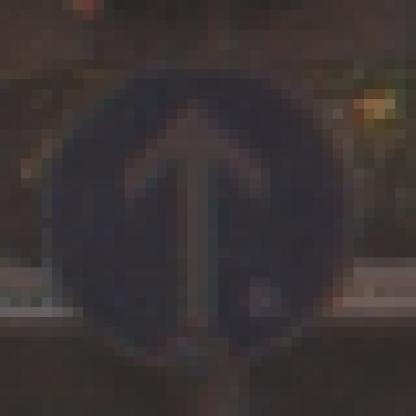AheadOnly: (53, 51, 365, 358)
